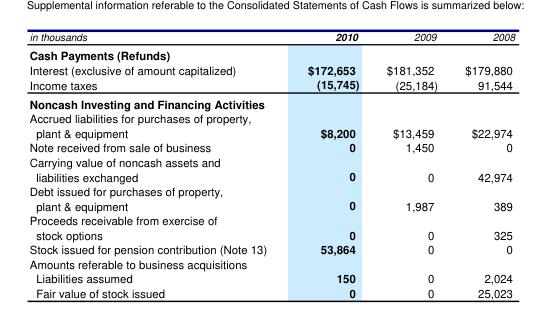table: (28, 29, 514, 300)
table column: (28, 29, 286, 300), (286, 29, 372, 300), (372, 29, 450, 300), (450, 29, 514, 300)
table column header: (28, 29, 514, 45)
table projected row header: (28, 45, 514, 62), (28, 93, 514, 110), (28, 256, 514, 270)
table row: (28, 110, 514, 139), (28, 154, 514, 183), (28, 183, 514, 212), (28, 212, 514, 241), (28, 45, 514, 62), (28, 76, 514, 93), (28, 93, 514, 110), (28, 29, 514, 45), (28, 139, 514, 154), (28, 241, 514, 256), (28, 270, 514, 285), (28, 285, 514, 300), (28, 62, 514, 76), (28, 256, 514, 270)
